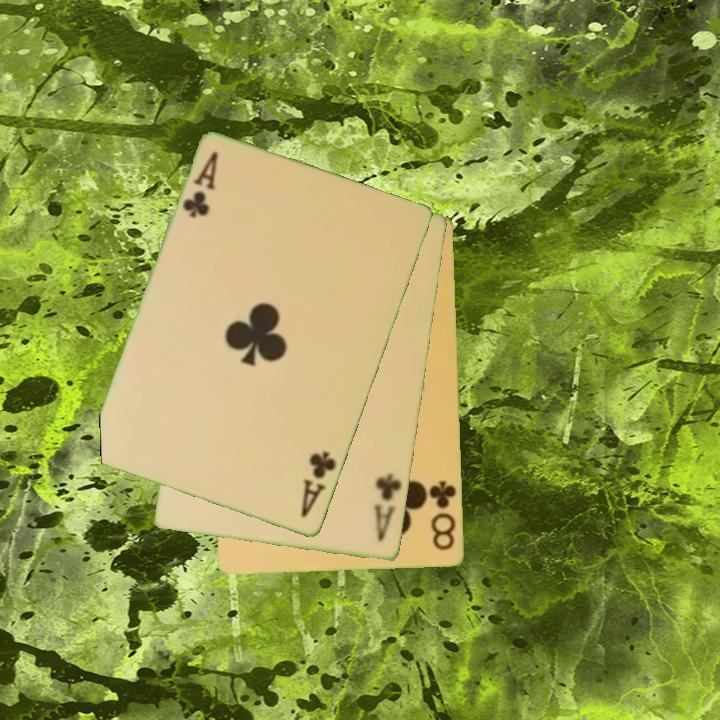8c: (426, 477, 460, 554)
Ac: (297, 448, 340, 521), (179, 149, 222, 222), (371, 470, 405, 545)
